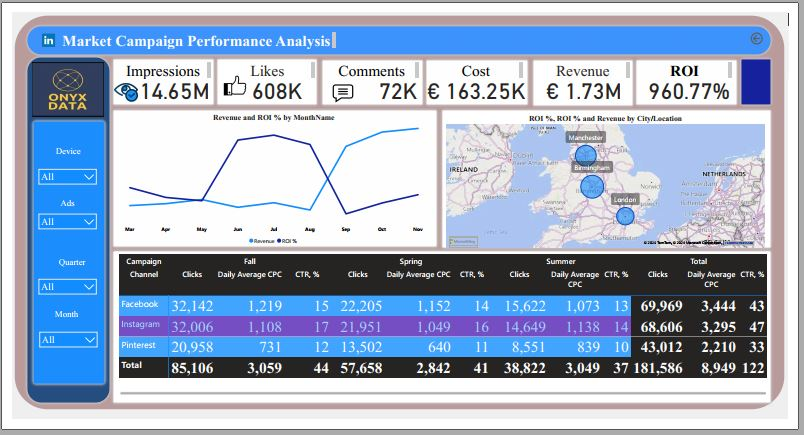

Layout of this report page (visuals, bound fields, positions):
{"tool":"powerbi","page":{"name":"Performance Analysis","canvas":[1891,990],"ordinal":2},"visuals":[{"type":"shape","box":[0,0,1891.1,973.2],"z":0},{"type":"shape","box":[492.9,107.1,257.1,123.2],"z":1000},{"type":"shape","box":[749.7,108,258,122.7],"z":2000},{"type":"shape","box":[1004.2,108,259.1,122.7],"z":3000},{"type":"shape","box":[1262.5,108.9,257.1,123.2],"z":4000},{"type":"shape","box":[1515.6,108,258,122.7],"z":5000},{"type":"shape","box":[30.4,101.8,214.3,855.4],"z":6000},{"type":"shape","box":[239.3,107.1,258.9,123.2],"z":7000},{"type":"shape","title":"Impression by Channel","box":[241.1,232.1,800,344.6],"z":8000},{"type":"shape","box":[239.3,575,1616.1,382.1],"z":9000},{"type":"shape","box":[1041.1,232.1,814.3,348.2],"z":10000},{"type":"shape","box":[1770.1,106.8,86.4,123.9],"z":11000},{"type":"shape","box":[30.4,25,1826.8,83.9],"z":12000},{"type":"card","fields":{"Values":["measure_Table.Impression"]},"box":[287.5,141.1,217.9,87.5],"z":13000},{"type":"textbox","box":[257.1,116.1,230.4,50],"z":14000},{"type":"textbox","box":[511.4,116.1,230.4,50],"z":15000},{"type":"textbox","box":[765.7,116.1,230.4,50],"z":16000},{"type":"textbox","box":[1020,116.1,230.4,50],"z":17000},{"type":"textbox","box":[1280.4,116.1,230.4,50],"z":18000},{"type":"textbox","box":[1528.6,116.1,230.4,50],"z":19000},{"type":"card","fields":{"Values":["measure_Table.Likes"]},"box":[548.2,139.3,196.4,87.5],"z":20000},{"type":"card","fields":{"Values":["measure_Table.Comments"]},"box":[880.4,139.3,121.4,87.5],"z":21000},{"type":"card","fields":{"Values":["measure_Table.Cost"]},"box":[1007.1,139.3,251.8,87.5],"z":22000},{"type":"card","fields":{"Values":["measure_Table.Revenue"]},"box":[1275,139.3,241.1,87.5],"z":23000},{"type":"card","fields":{"Values":["measure_Table.ROI %"]},"box":[1528.6,139.3,244.6,87.5],"z":24000},{"type":"textbox","box":[114.3,42.9,678.6,50],"z":25000},{"type":"shape","box":[44.6,257.1,187.5,653.6],"z":26000},{"type":"slicer","fields":{"Values":["data.Device"]},"box":[55.4,371.4,160.7,60.7],"z":27000},{"type":"slicer","fields":{"Values":["data.Ad"]},"box":[55.4,480.4,160.7,60.7],"z":28000},{"type":"slicer","fields":{"Values":["Calendar_Table.Quarter"]},"box":[55.4,639.3,160.7,60.7],"z":29000},{"type":"shape","box":[51.8,701.8,162.5,66.1],"z":30000},{"type":"shape","box":[62.5,305.4,148.2,66.1],"z":31000},{"type":"shape","box":[53.6,432.1,162.5,66.1],"z":32000},{"type":"shape","box":[65.4,574.3,162.5,66.1],"z":33000},{"type":"slicer","fields":{"Values":["Calendar_Table.MonthName"]},"box":[57.1,767.9,160.7,57.1],"z":34000},{"type":"image","box":[489.3,139.3,108.9,76.8],"z":35000},{"type":"image","box":[44.6,42.9,87.5,50],"z":36000},{"type":"image","box":[733.9,166.1,146.4,60.7],"z":37000},{"type":"image","box":[44.6,116.1,183.9,141.1],"z":38000},{"type":"image","box":[241.1,160.7,73.2,66.1],"z":39000},{"type":"lineChart","fields":{"Category":["Calendar_Table.MonthName"],"Y":["measure_Table.Revenue"],"Y2":["measure_Table.ROI %"]},"box":[246.5,244.2,783.7,330.2],"z":40000},{"type":"map","fields":{"Category":["data.City/Location"],"Size":["measure_Table.ROI %"]},"box":[1055.4,246.4,783.9,330.4],"z":41000},{"type":"pivotTable","fields":{"Values":["data.Clicks","data.Daily Average CPC","data.CTR, %"],"Rows":["data.Channel"],"Columns":["data.Campaign"]},"box":[257.1,583.9,1587.5,353.6],"z":42000},{"type":"actionButton","box":[1796.4,42.9,48.2,39.3],"z":43000}]}

Visuals, with their boxes on the page's 1891x990 design canvas (x1, y1, x2, y2). These are canvas units, not pixel positions in the 804x435 screenshot, which may show the page scaled, cropped or inside an application window:
shape: detection(0, 0, 1891, 973)
shape: detection(493, 107, 750, 230)
shape: detection(750, 108, 1008, 231)
shape: detection(1004, 108, 1263, 231)
shape: detection(1262, 109, 1520, 232)
shape: detection(1516, 108, 1774, 231)
shape: detection(30, 102, 245, 957)
shape: detection(239, 107, 498, 230)
"Impression by Channel" shape: detection(241, 232, 1041, 577)
shape: detection(239, 575, 1855, 957)
shape: detection(1041, 232, 1855, 580)
shape: detection(1770, 107, 1856, 231)
shape: detection(30, 25, 1857, 109)
card - measure_Table.Impression: detection(288, 141, 505, 229)
textbox: detection(257, 116, 488, 166)
textbox: detection(511, 116, 742, 166)
textbox: detection(766, 116, 996, 166)
textbox: detection(1020, 116, 1250, 166)
textbox: detection(1280, 116, 1511, 166)
textbox: detection(1529, 116, 1759, 166)
card - measure_Table.Likes: detection(548, 139, 745, 227)
card - measure_Table.Comments: detection(880, 139, 1002, 227)
card - measure_Table.Cost: detection(1007, 139, 1259, 227)
card - measure_Table.Revenue: detection(1275, 139, 1516, 227)
card - measure_Table.ROI %: detection(1529, 139, 1773, 227)
textbox: detection(114, 43, 793, 93)
shape: detection(45, 257, 232, 911)
slicer - data.Device: detection(55, 371, 216, 432)
slicer - data.Ad: detection(55, 480, 216, 541)
slicer - Calendar_Table.Quarter: detection(55, 639, 216, 700)
shape: detection(52, 702, 214, 768)
shape: detection(62, 305, 211, 372)
shape: detection(54, 432, 216, 498)
shape: detection(65, 574, 228, 640)
slicer - Calendar_Table.MonthName: detection(57, 768, 218, 825)
image: detection(489, 139, 598, 216)
image: detection(45, 43, 132, 93)
image: detection(734, 166, 880, 227)
image: detection(45, 116, 228, 257)
image: detection(241, 161, 314, 227)
lineChart - Calendar_Table.MonthName x measure_Table.Revenue: detection(246, 244, 1030, 574)
map - data.City/Location x measure_Table.ROI %: detection(1055, 246, 1839, 577)
pivotTable - data.Clicks x data.Daily Average CPC: detection(257, 584, 1845, 938)
actionButton: detection(1796, 43, 1845, 82)
